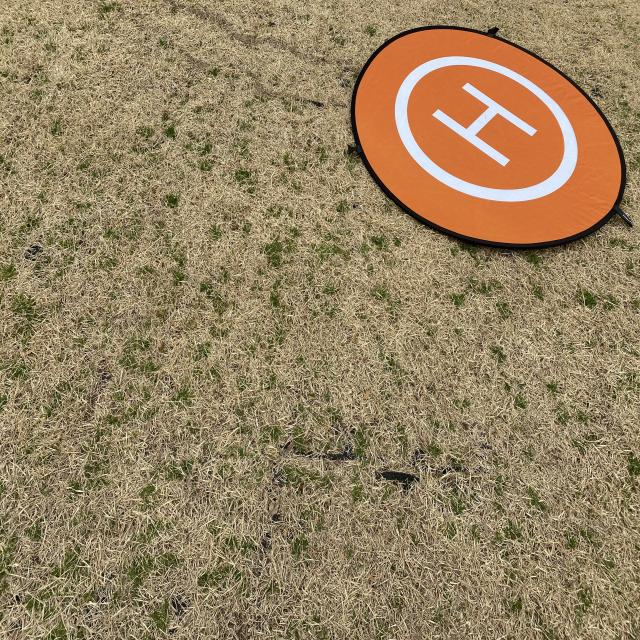helipad: (393, 54, 579, 203)
